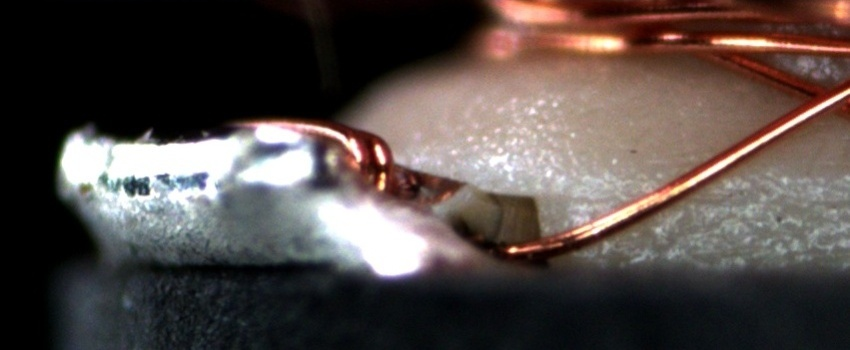CL: (784, 73, 846, 124)
DL: (576, 178, 849, 232)
TE: (230, 118, 399, 193)
